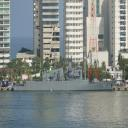Fragata: (13, 64, 118, 93)
